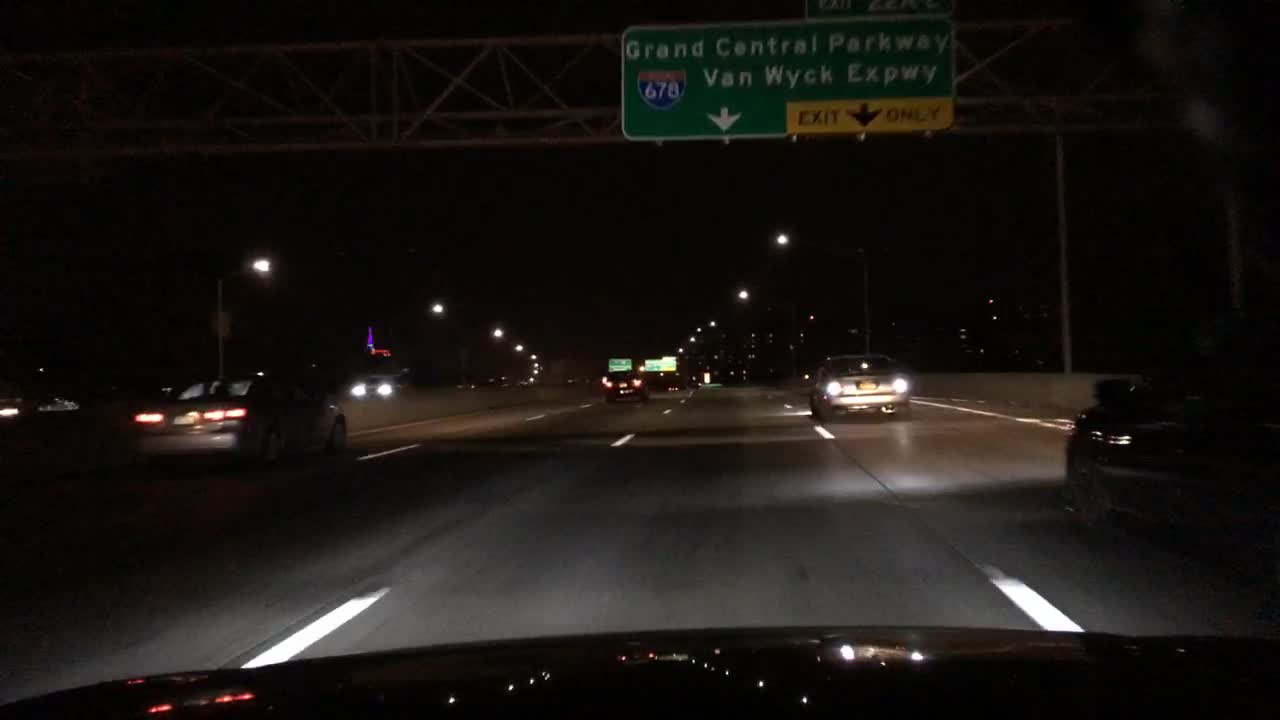car: (1065, 361, 1278, 593), (129, 368, 346, 473), (806, 353, 914, 424), (0, 389, 80, 425), (352, 372, 411, 401), (455, 382, 478, 393)
traffic sign: (618, 13, 962, 141), (209, 309, 232, 340), (642, 353, 678, 372), (606, 355, 634, 372)
